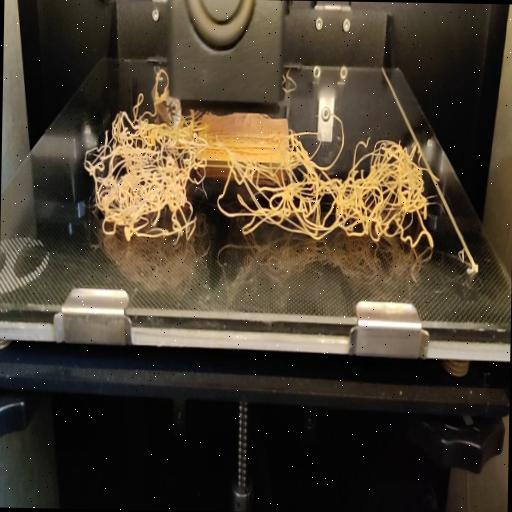spaghetti: (82, 110, 446, 254), (132, 63, 168, 115), (282, 68, 296, 92)
